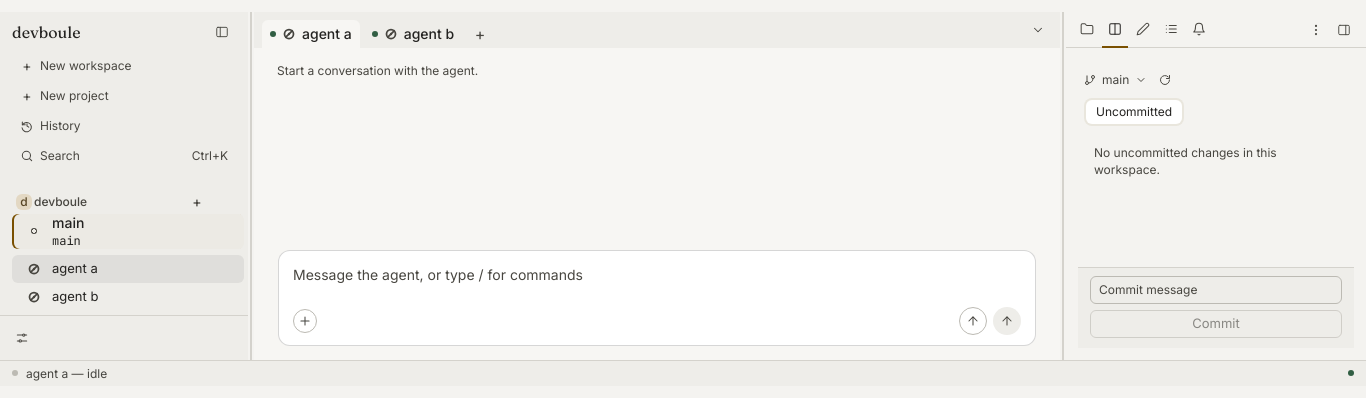
Scenario: the Tasks tab's dot on the real road › lights after the Tasks tab was watched and then left for Changes
The width and height of the screenshot is (1366, 398).
Click the tab named "Tasks" at [1171, 30], box left=1158, top=12, right=1184, bottom=48
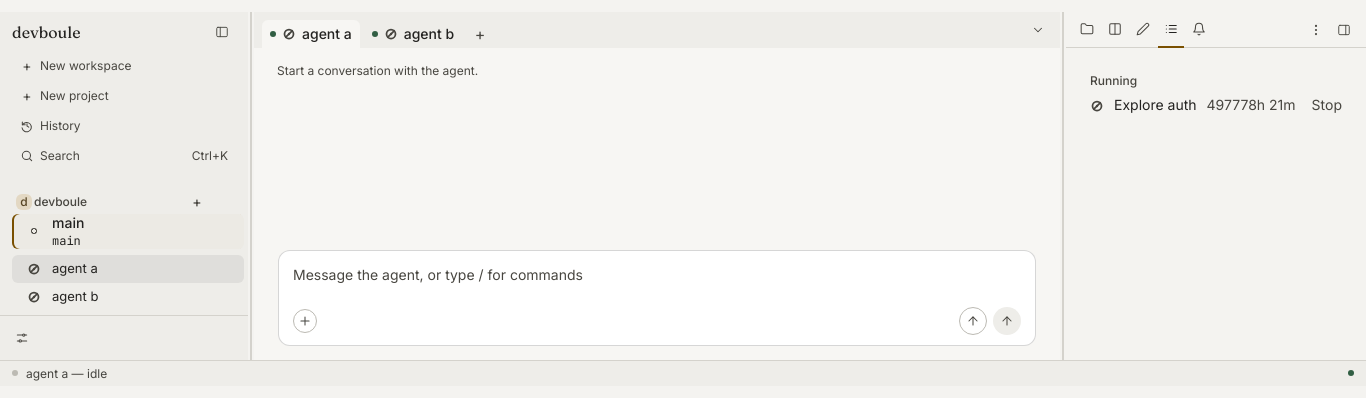
Click the tab named "Changes" at [1115, 30], box left=1102, top=12, right=1128, bottom=48
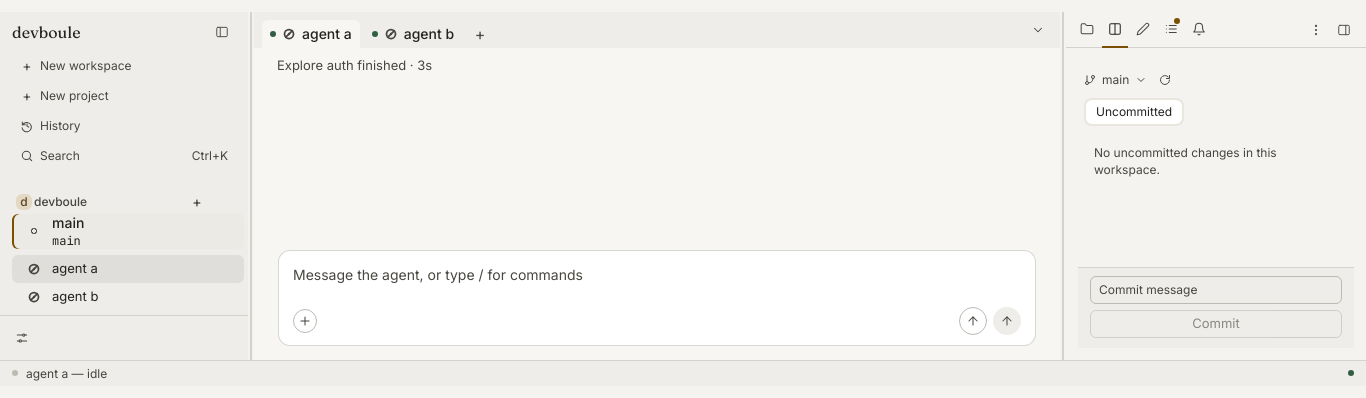
Expected: the element with class "workspace-panel-tab-dot" is shown, left=1174, top=18, right=1180, bottom=24
